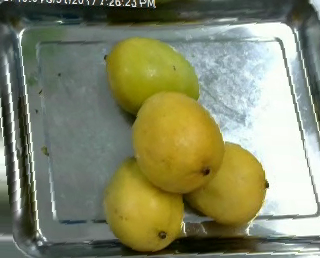Mango: (128, 88, 229, 196), (103, 31, 203, 124), (181, 130, 275, 226), (100, 152, 188, 249)
